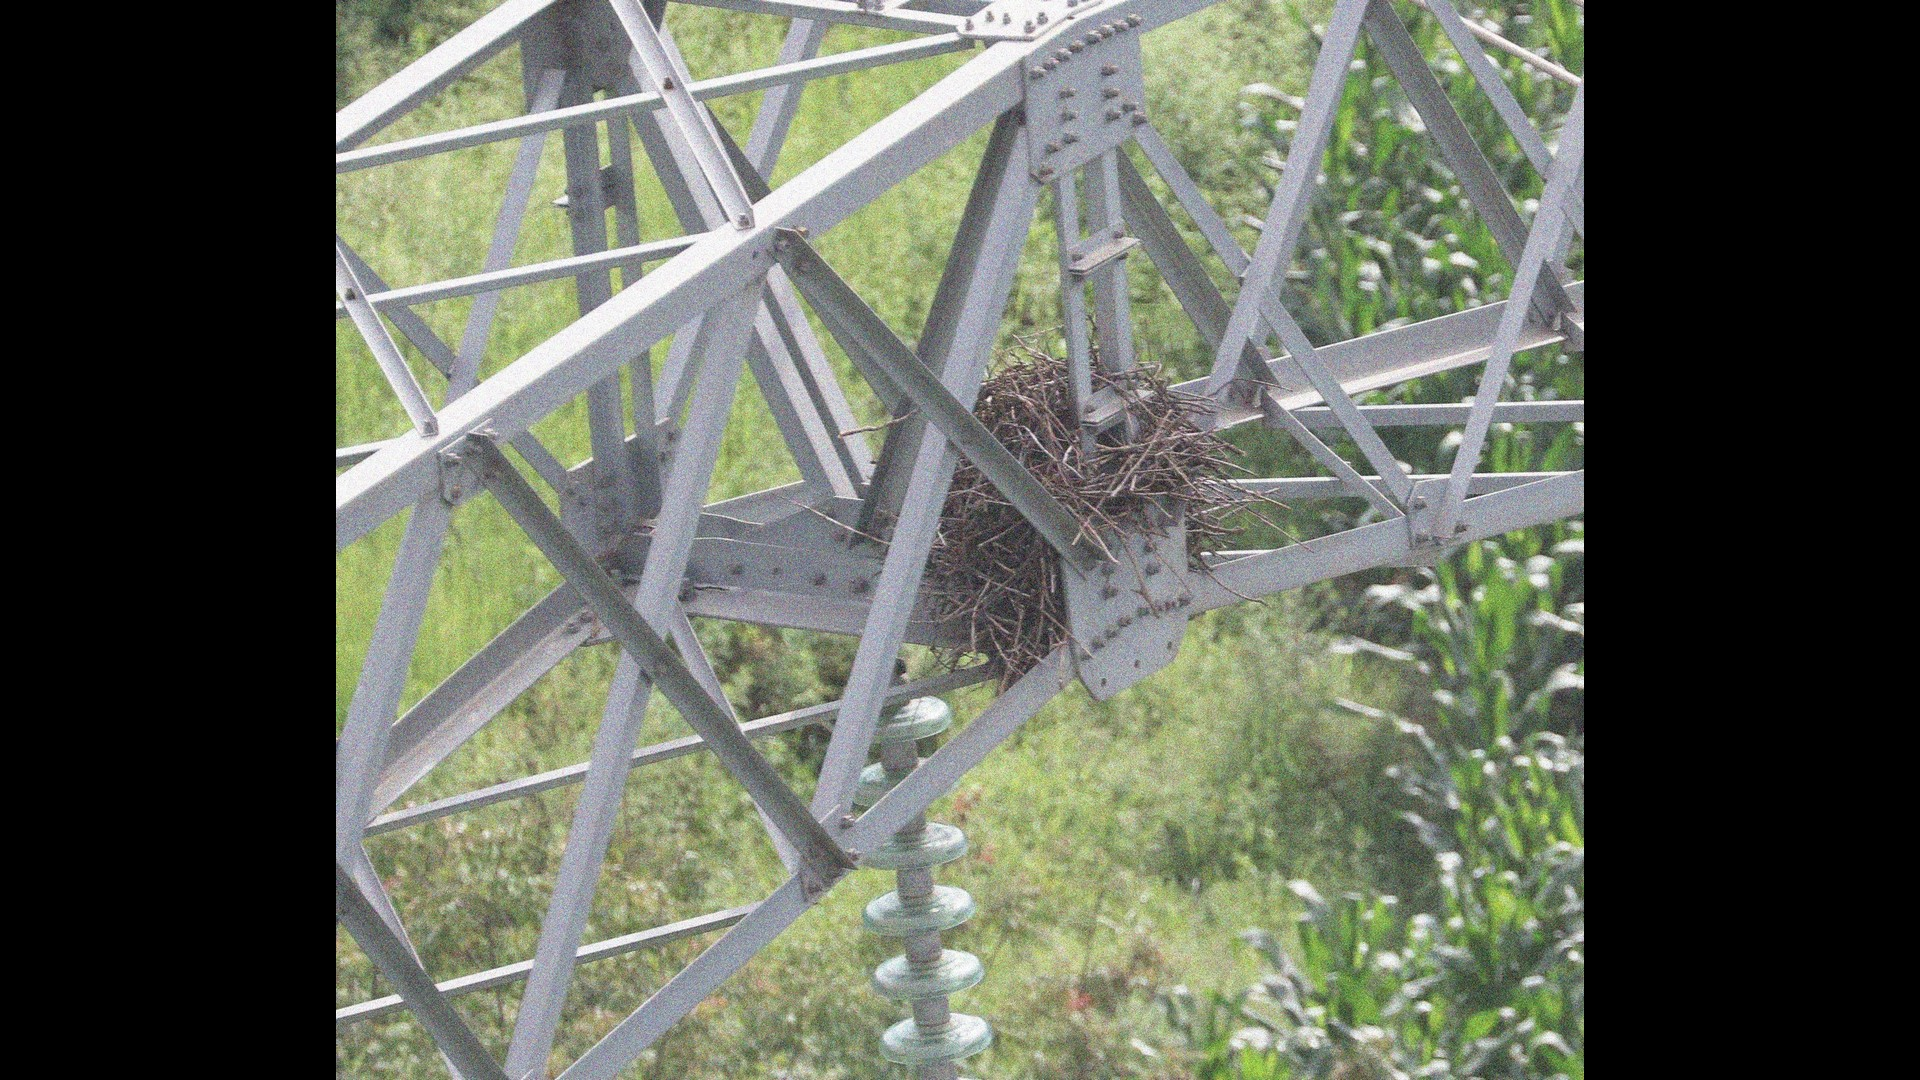niaowo: (918, 357, 1265, 702)
